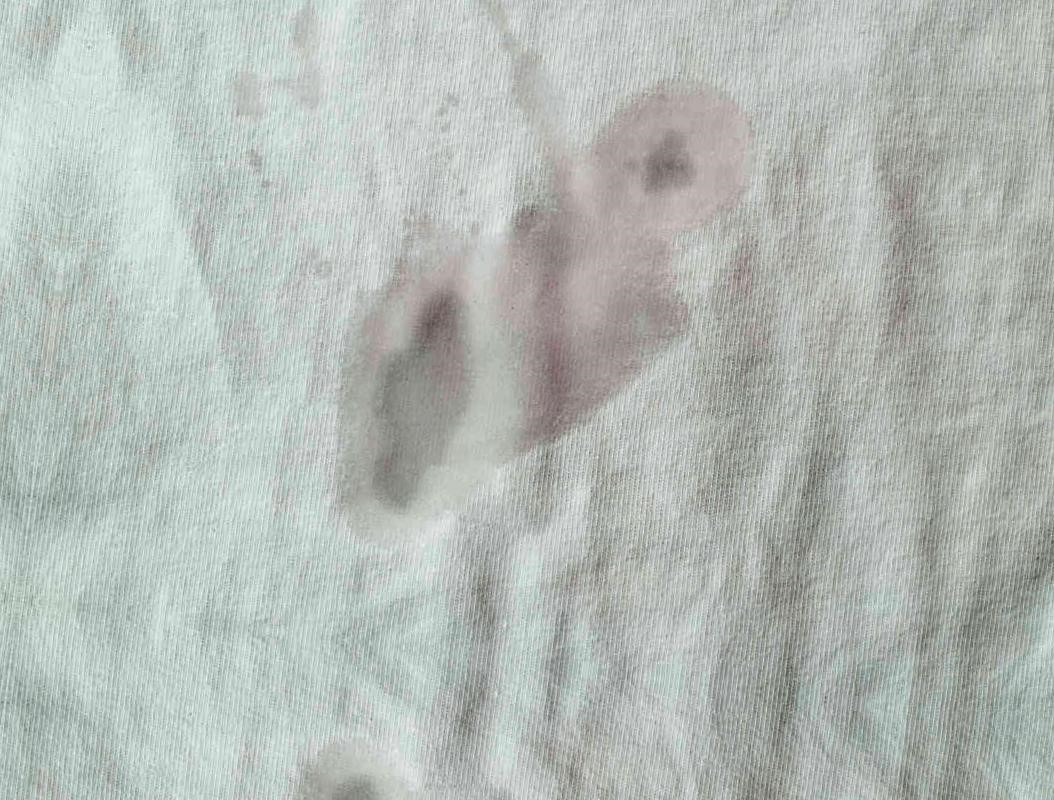stain: (316, 64, 771, 561), (276, 727, 435, 800)
